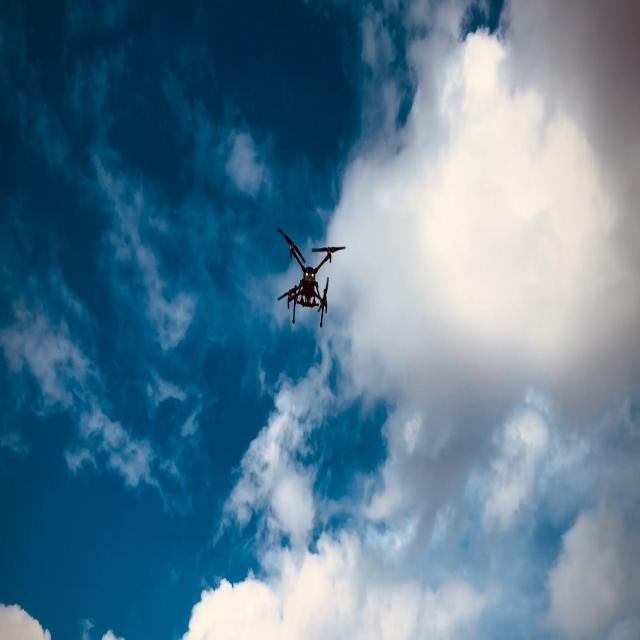drone: (276, 225, 346, 328)
